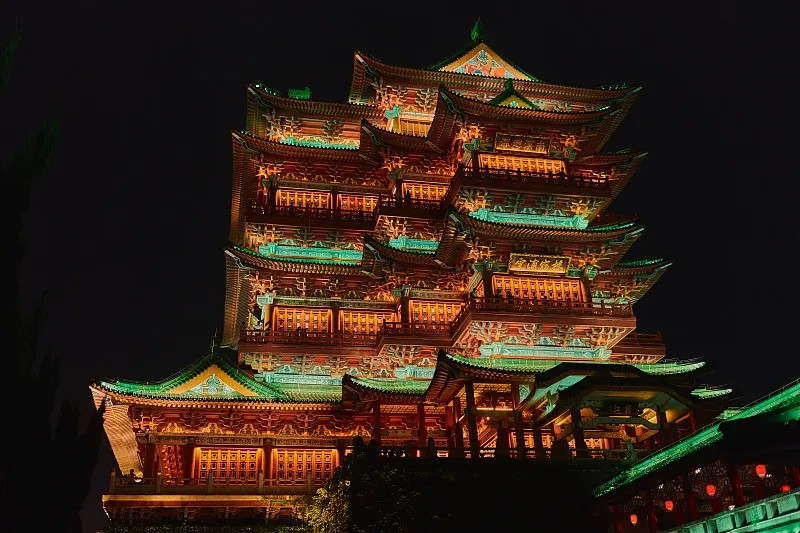Teng: (86, 44, 731, 497)
